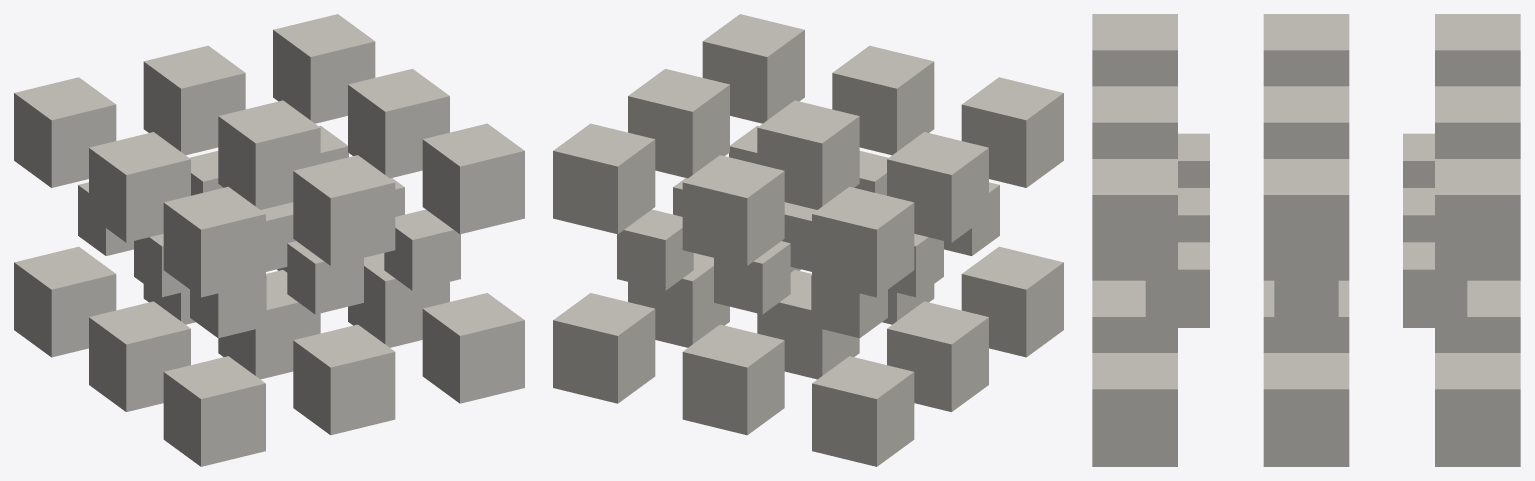
Rendered from building_fragment.gltf.
The picture shows the model from 3 angles, left to right: view 1: azimuth 30°, elevation 25°; view 2: azimuth 150°, elevation 25°; view 3: azimuth 270°, elevation 25°; orthographic projection. The views are drawn at different scales.
Visible parts, largest first — view 1: 立方体.008, 立方体.006, 立方体.007, 立方体.019, 立方体.018, 立方体.020, 立方体.022, 立方体.004, 立方体.001, 立方体.025, 立方体.021, 立方体.026 (+13 smaller); view 2: 立方体.005, 立方体.003, 立方体.004, 立方体.022, 立方体.021, 立方体.023, 立方体.019, 立方体.007, 立方体.001, 立方体.025, 立方体.018, 立方体.026 (+13 smaller); view 3: 立方体.002, 立方体.024, 立方体.003, 立方体.006, 立方体.020, 立方体.023, 立方体.026, 立方体.025, 立方体.018, 立方体.019, 立方体.021, 立方体.022 (+12 smaller).
Boxes of the visible parts, x1=… form: 立方体.008: x1=293, y1=324, x2=395, y2=435; 立方体.006: x1=422, y1=293, x2=524, y2=403; 立方体.007: x1=163, y1=356, x2=265, y2=466; 立方体.019: x1=163, y1=186, x2=265, y2=297; 立方体.018: x1=293, y1=155, x2=395, y2=265; 立方体.020: x1=422, y1=123, x2=524, y2=234; 立方体.022: x1=14, y1=77, x2=116, y2=187; 立方体.004: x1=14, y1=246, x2=116, y2=357; 立方体.001: x1=89, y1=301, x2=190, y2=411; 立方体.025: x1=89, y1=132, x2=190, y2=242; 立方体.021: x1=143, y1=45, x2=245, y2=155; 立方体.026: x1=218, y1=100, x2=320, y2=209; 立方体.005: x1=682, y1=324, x2=784, y2=435; 立方体.003: x1=553, y1=293, x2=655, y2=403; 立方体.004: x1=812, y1=356, x2=914, y2=466; 立方体.022: x1=812, y1=186, x2=914, y2=297; 立方体.021: x1=682, y1=155, x2=784, y2=265; 立方体.023: x1=553, y1=123, x2=655, y2=234; 立方体.019: x1=961, y1=77, x2=1063, y2=187; 立方体.007: x1=961, y1=246, x2=1063, y2=357; 立方体.001: x1=887, y1=301, x2=988, y2=411; 立方体.025: x1=887, y1=132, x2=988, y2=242; 立方体.018: x1=832, y1=45, x2=934, y2=155; 立方体.026: x1=757, y1=100, x2=859, y2=209; 立方体.002: x1=1263, y1=353, x2=1349, y2=466; 立方体.024: x1=1263, y1=159, x2=1349, y2=272; 立方体.003: x1=1435, y1=353, x2=1520, y2=466; 立方体.006: x1=1092, y1=353, x2=1177, y2=466; 立方体.020: x1=1092, y1=159, x2=1177, y2=272; 立方体.023: x1=1435, y1=159, x2=1520, y2=272; 立方体.026: x1=1263, y1=86, x2=1349, y2=158; 立方体.025: x1=1263, y1=14, x2=1349, y2=86; 立方体.018: x1=1092, y1=86, x2=1177, y2=158; 立方体.019: x1=1092, y1=14, x2=1177, y2=86; 立方体.021: x1=1435, y1=86, x2=1520, y2=158; 立方体.022: x1=1435, y1=14, x2=1520, y2=86.
Bounding box in the file's own units: 2.5 × 1.75 × 2.5.
Materials: 27 (27 with a texture image).
